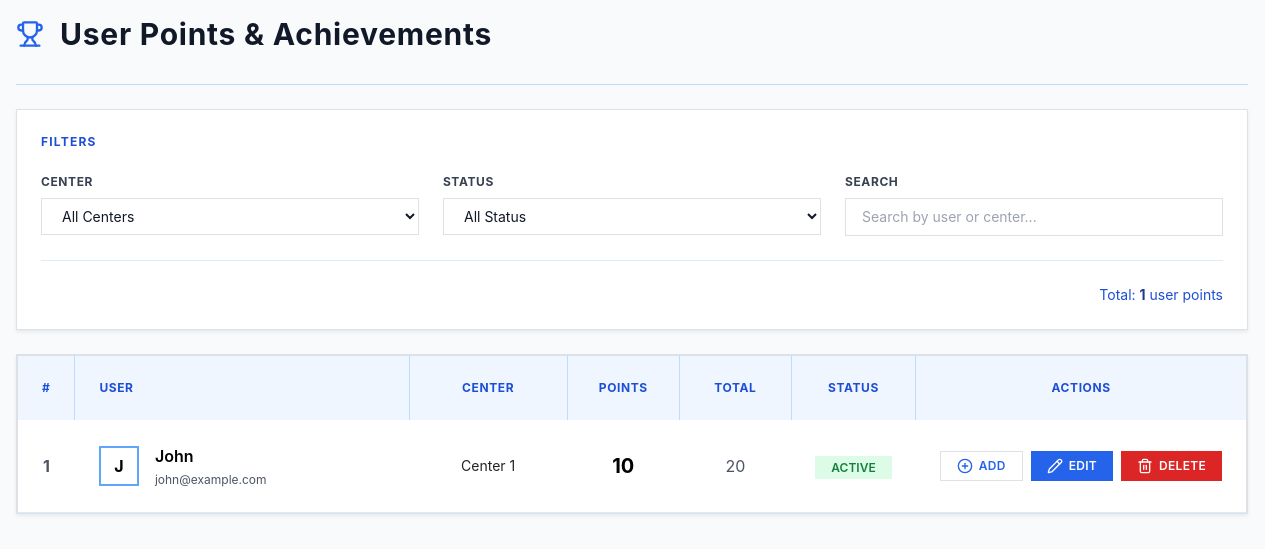
Test: pages/Admin/UserPointsManagement › filters by status to show empty state
expect the heading "User Points & Achievements" is shown: met, box top-left (16, 16), bottom-right (492, 52)
// Set filter to Inactive to hide active row
Select "Inactive" in the 2nd dropdown at x=632, y=216, box top-left (443, 198), bottom-right (821, 235)
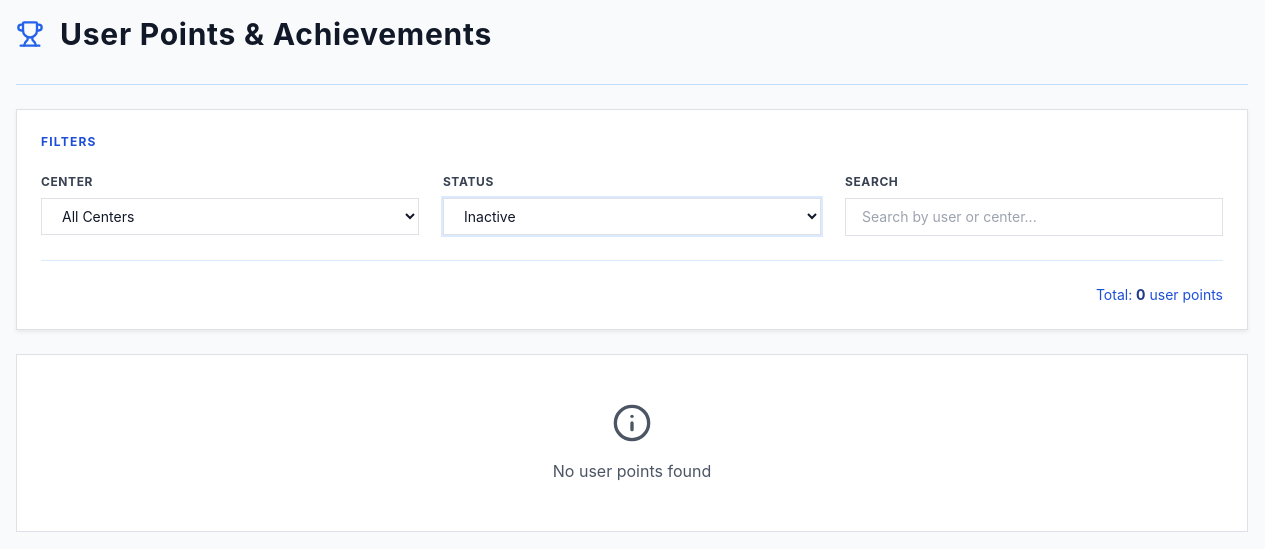
expect the text "No user points found" is shown: met, box top-left (553, 403), bottom-right (711, 481)
